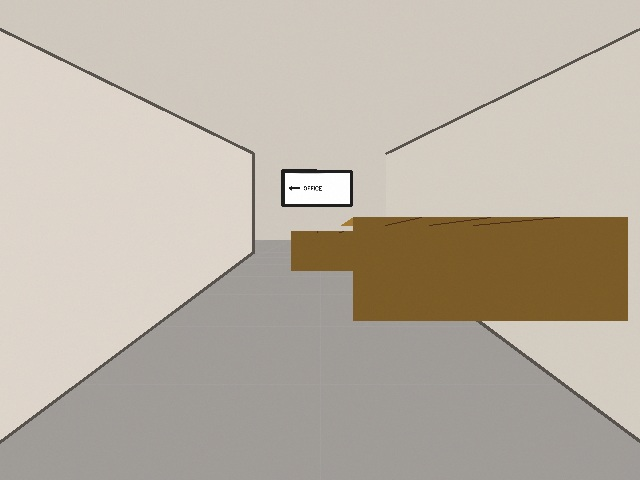directional_sign: (282, 170, 351, 205)
pallet: (341, 217, 627, 320), (291, 231, 395, 270)
